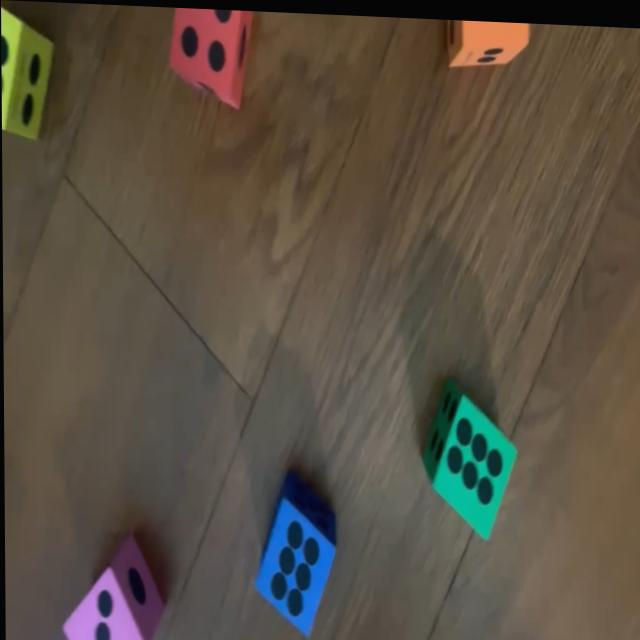blue_block: (251, 472, 338, 634)
red_block: (168, 6, 254, 108)
